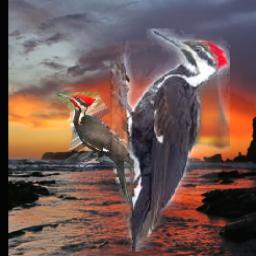Woodpecker: (109, 28, 229, 252), (55, 92, 139, 206)
